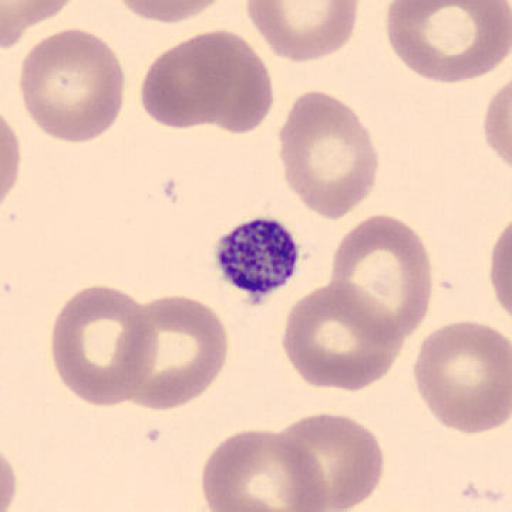Platelet: (212, 214, 303, 301)
RBC: (138, 27, 274, 134), (280, 280, 404, 394), (48, 283, 158, 410), (328, 212, 434, 341), (278, 89, 380, 223), (18, 26, 127, 145), (123, 294, 230, 414), (412, 319, 511, 436), (200, 427, 330, 512), (385, 0, 511, 86), (276, 413, 385, 511), (139, 29, 232, 130), (186, 29, 274, 135), (246, 0, 360, 65), (1, 0, 75, 49), (482, 78, 512, 169), (116, 0, 228, 24), (489, 216, 512, 322), (0, 111, 21, 214), (2, 0, 76, 24), (0, 447, 20, 512)
